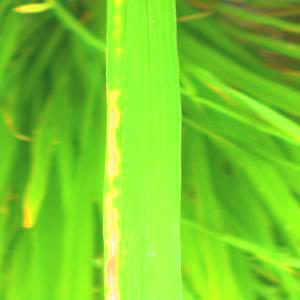2 BacterialBlight: (100, 1, 186, 300)
